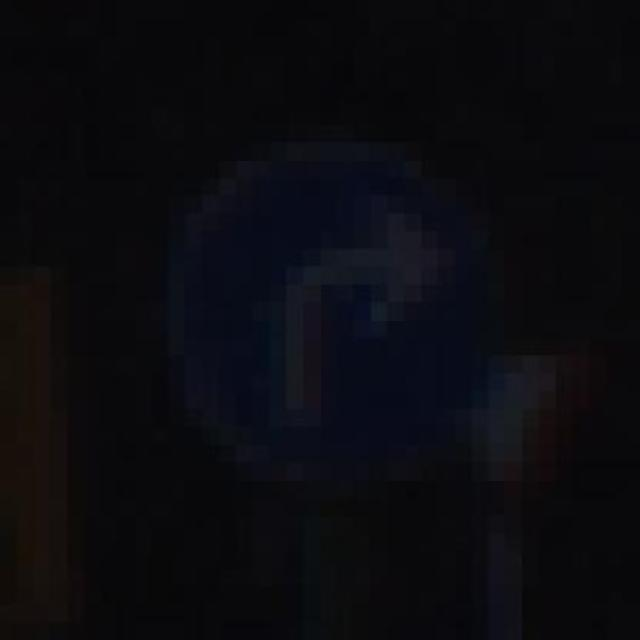Turn right ahead: (118, 89, 556, 516)
